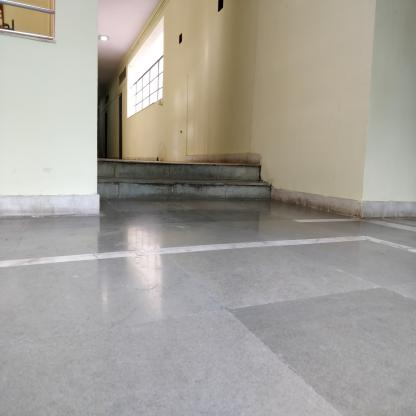stairs: (103, 161, 260, 204)
